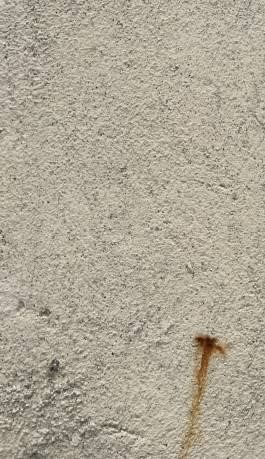Corrosion: (178, 334, 225, 459)
